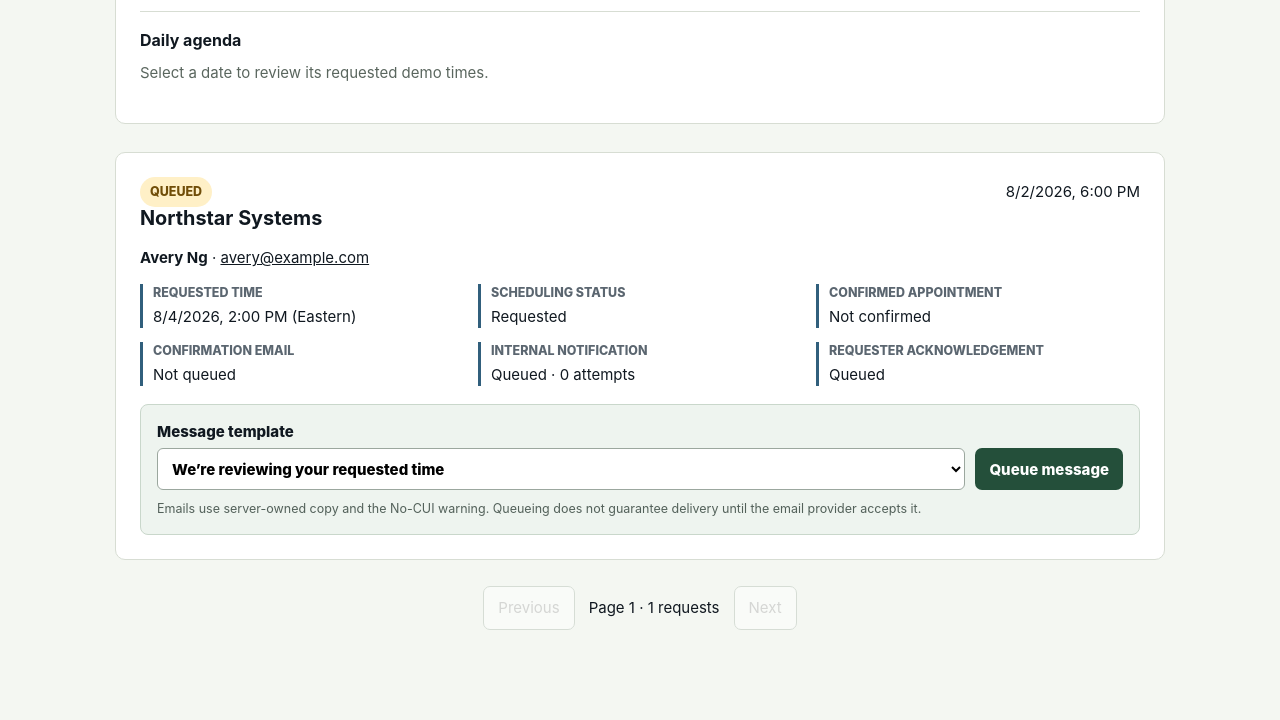
Test case: PlatformDemoRequestsPage › confirms and queues only a selected server-owned message template
(page scrolled)
Select "Please provide more details" in the dropdown labelled "Message template" at (561, 470), box [157,448,965,490]
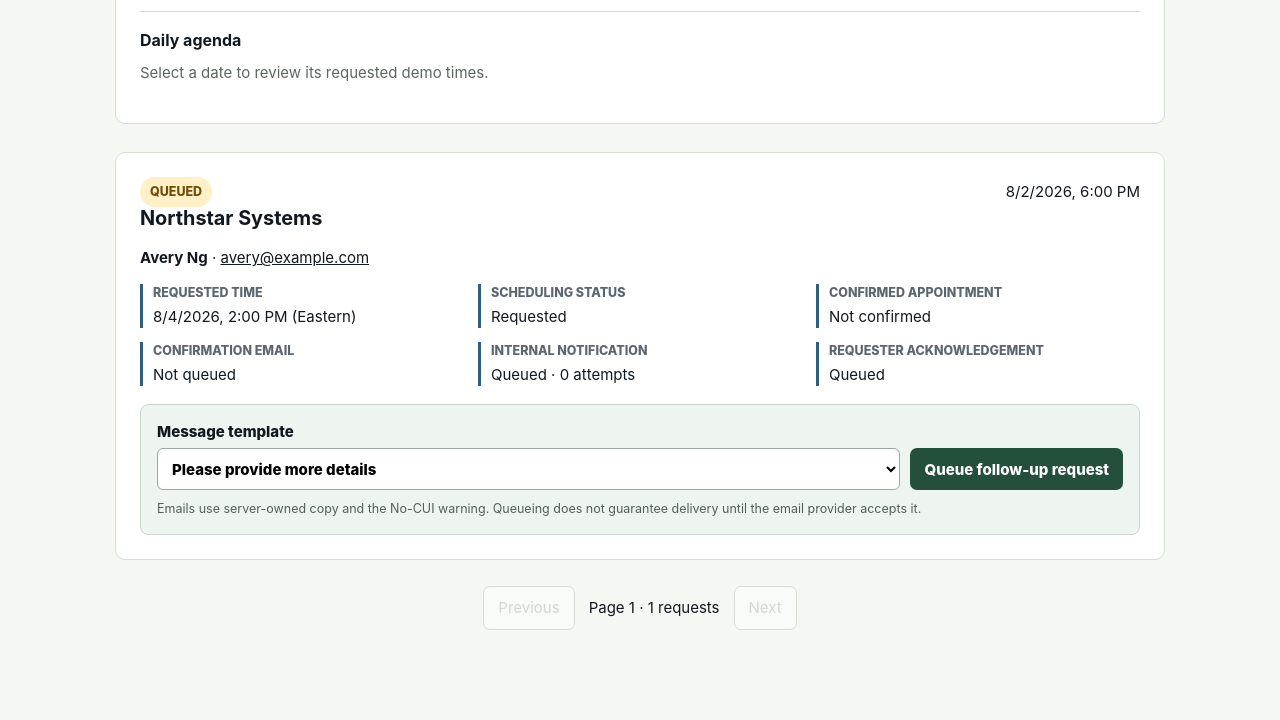
Click the button "Queue follow-up request" at (1017, 470), box [910,448,1123,490]
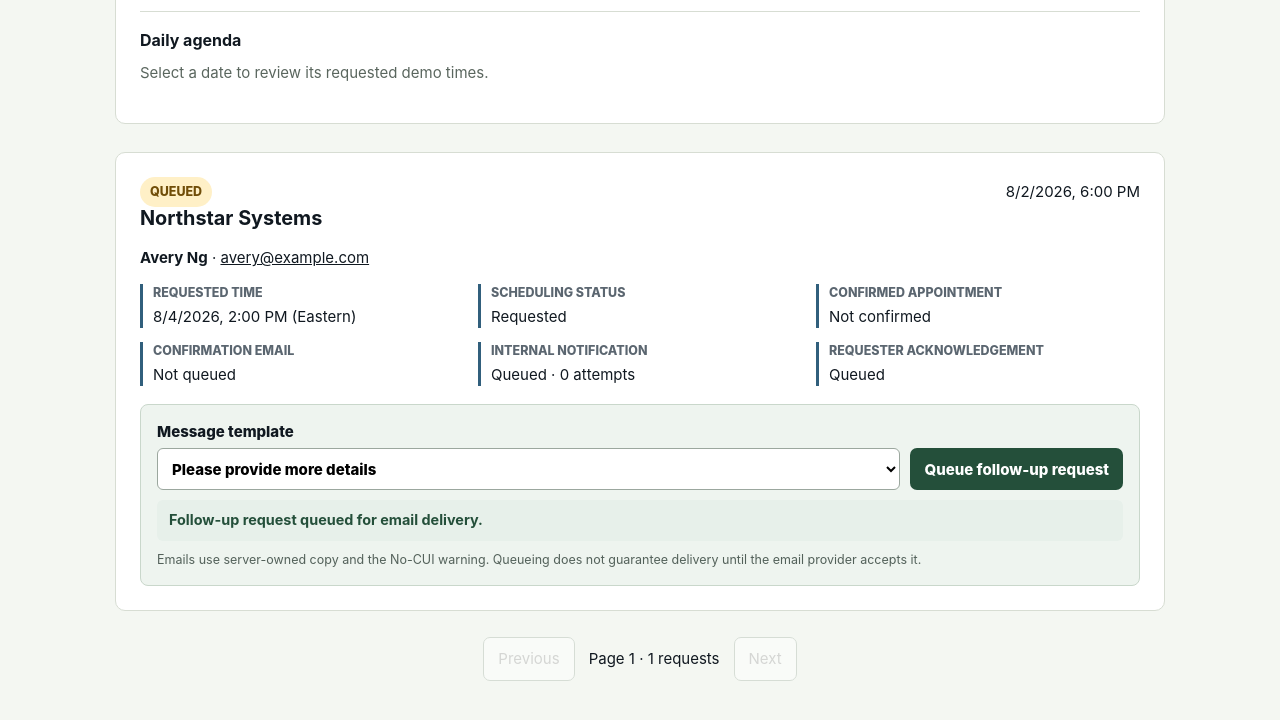
Expected: the message shows "Follow-up request queued", [169,512,483,528]
